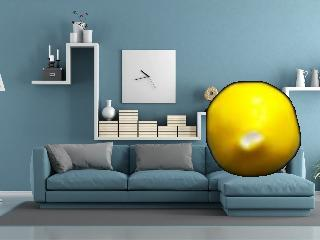lemon: (205, 82, 298, 177)
